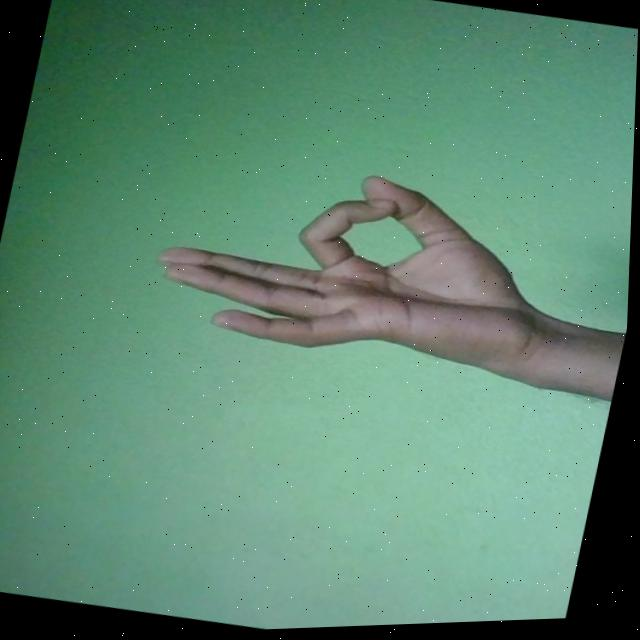Ok: (138, 137, 575, 395)
